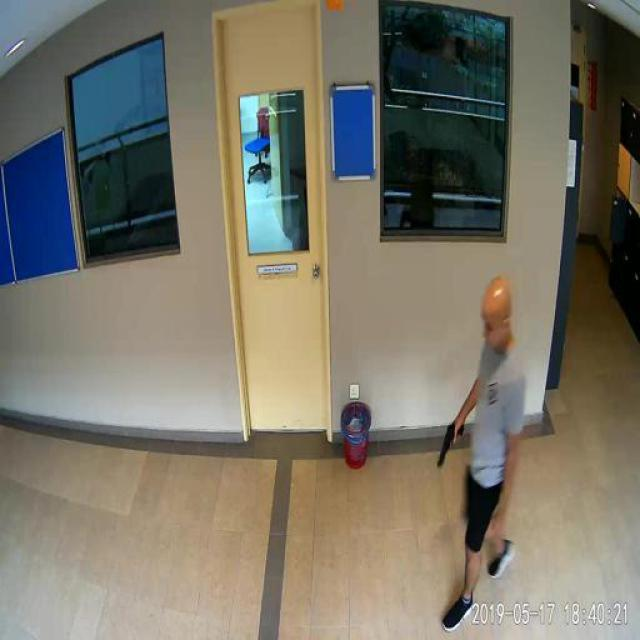weapon: (437, 422, 465, 467)
